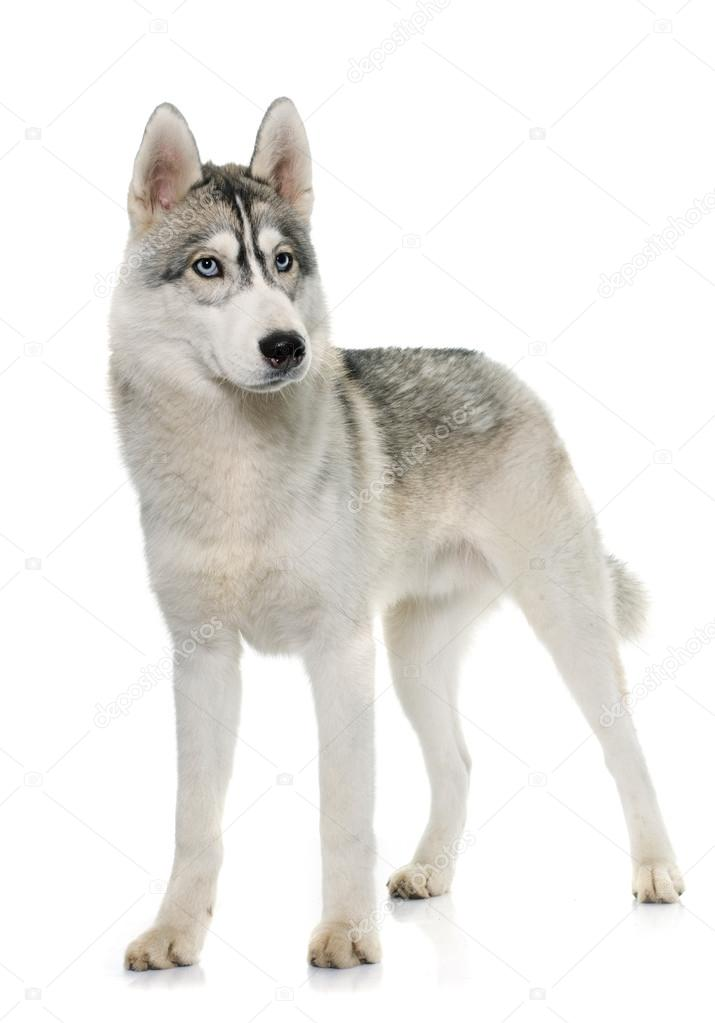husky: (68, 72, 676, 941)
